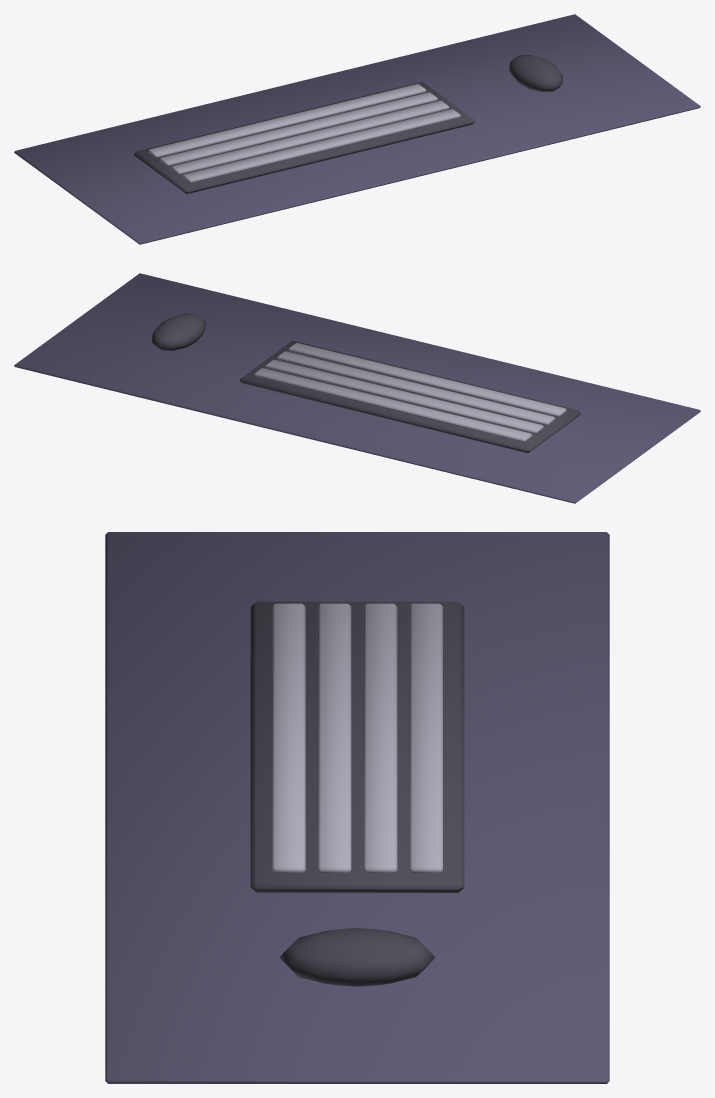
File: senior_keyboard_mat.glb
3 views of the same model, one above another, from view 1: azimuth 30°, elevation 25°; view 2: azimuth 150°, elevation 25°; view 3: azimuth 270°, elevation 25° (orthographic). The views are drawn at different scales.
Visible parts, largest first — view 1: senior_keyboard_mat__SlateLavDark, senior_keyboard_mat__Metal, senior_keyboard_mat__DarkGrey; view 2: senior_keyboard_mat__SlateLavDark, senior_keyboard_mat__Metal, senior_keyboard_mat__DarkGrey; view 3: senior_keyboard_mat__SlateLavDark, senior_keyboard_mat__Metal, senior_keyboard_mat__DarkGrey.
Boxes of the visible parts, x1,y1,x2,y2 form: senior_keyboard_mat__SlateLavDark: [14, 14, 700, 244]; senior_keyboard_mat__Metal: [148, 84, 460, 182]; senior_keyboard_mat__DarkGrey: [134, 55, 562, 194]; senior_keyboard_mat__SlateLavDark: [14, 273, 700, 503]; senior_keyboard_mat__Metal: [254, 343, 566, 441]; senior_keyboard_mat__DarkGrey: [152, 314, 580, 453]; senior_keyboard_mat__SlateLavDark: [105, 532, 609, 1083]; senior_keyboard_mat__Metal: [272, 603, 442, 872]; senior_keyboard_mat__DarkGrey: [250, 601, 464, 986].
Bounding box in the file's own units: 0.85 × 0.0365 × 0.33.
